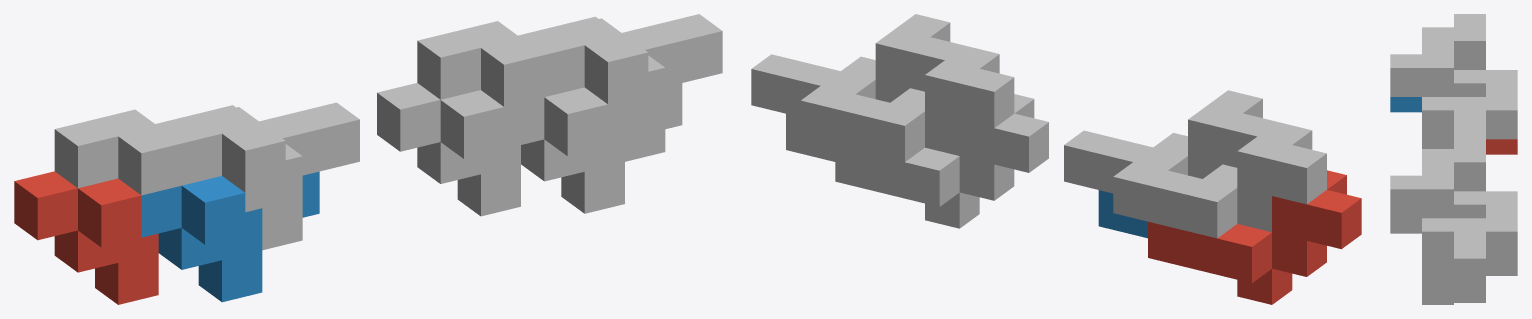
File: tiling.obj
The picture shows the model from 3 angles, left to right: view 1: azimuth 30°, elevation 25°; view 2: azimuth 150°, elevation 25°; view 3: azimuth 270°, elevation 25°; orthographic projection. The views are drawn at different scales.
Parts seen in each view (by area): view 1: copy_1_domain_8, copy_1_domain_4, copy_1_domain_1, copy_1_domain_5, copy_1_domain_2, copy_1_domain_6, copy_1_domain_7, copy_1_domain_3; view 2: copy_1_domain_7, copy_1_domain_3, copy_1_domain_5, copy_1_domain_1, copy_1_domain_8, copy_1_domain_4, copy_1_domain_2, copy_1_domain_6; view 3: copy_1_domain_8, copy_1_domain_4, copy_1_domain_7, copy_1_domain_3, copy_1_domain_6, copy_1_domain_1, copy_1_domain_2, copy_1_domain_5.
Boxes of the visible parts, x1=… form: copy_1_domain_8: x1=521, y1=14, x2=722, y2=161; copy_1_domain_4: x1=159, y1=102, x2=359, y2=250; copy_1_domain_1: x1=14, y1=171, x2=158, y2=304; copy_1_domain_5: x1=377, y1=83, x2=520, y2=216; copy_1_domain_2: x1=141, y1=171, x2=319, y2=302; copy_1_domain_6: x1=504, y1=83, x2=682, y2=213; copy_1_domain_7: x1=417, y1=16, x2=598, y2=106; copy_1_domain_3: x1=54, y1=105, x2=235, y2=195; copy_1_domain_7: x1=800, y1=45, x2=1014, y2=162; copy_1_domain_3: x1=1113, y1=122, x2=1326, y2=238; copy_1_domain_5: x1=835, y1=94, x2=1048, y2=228; copy_1_domain_1: x1=1148, y1=170, x2=1361, y2=304; copy_1_domain_8: x1=751, y1=14, x2=964, y2=117; copy_1_domain_4: x1=1064, y1=90, x2=1276, y2=193; copy_1_domain_2: x1=1098, y1=190, x2=1147, y2=238; copy_1_domain_6: x1=786, y1=114, x2=835, y2=161; copy_1_domain_8: x1=1390, y1=162, x2=1485, y2=289; copy_1_domain_4: x1=1390, y1=41, x2=1485, y2=148; copy_1_domain_7: x1=1422, y1=135, x2=1517, y2=260; copy_1_domain_3: x1=1422, y1=14, x2=1517, y2=139; copy_1_domain_6: x1=1390, y1=218, x2=1485, y2=304; copy_1_domain_1: x1=1486, y1=139, x2=1517, y2=154; copy_1_domain_2: x1=1390, y1=97, x2=1421, y2=112; copy_1_domain_5: x1=1486, y1=260, x2=1517, y2=275.
Bounding box in the file's own units: 17 × 4 × 4.
